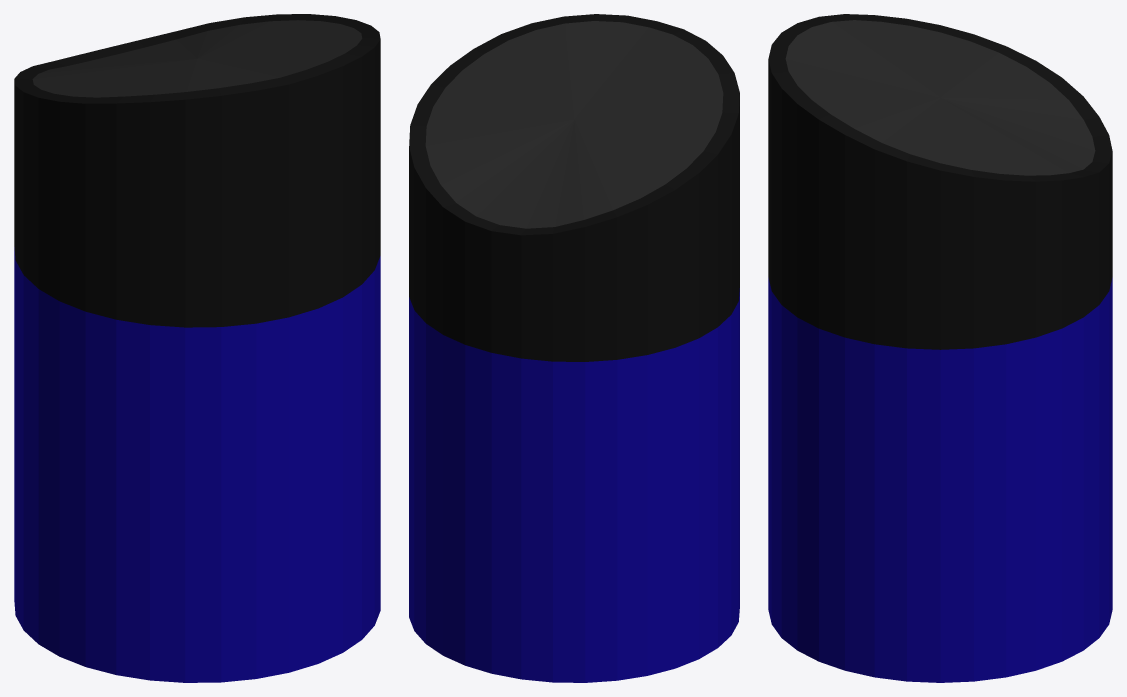
The model's file is spray v2.fbx.
3 views of the same model, side by side, from view 1: azimuth 30°, elevation 25°; view 2: azimuth 150°, elevation 25°; view 3: azimuth 270°, elevation 25° (orthographic). The views are drawn at different scales.
Visible parts, largest first — view 1: Circle.002; view 2: Circle.002; view 3: Circle.002.
Boxes of the visible parts, x1=… form: Circle.002: x1=14, y1=14, x2=380, y2=682; Circle.002: x1=409, y1=14, x2=739, y2=682; Circle.002: x1=768, y1=14, x2=1112, y2=682.
Size of the model in its own units: 84 by 149 by 84.
